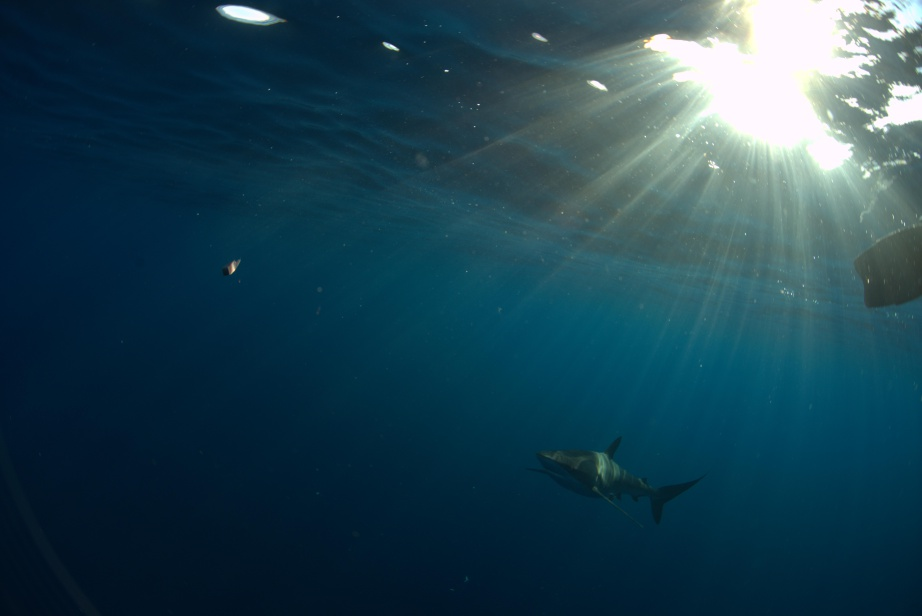Sedoso: (513, 425, 720, 527)
